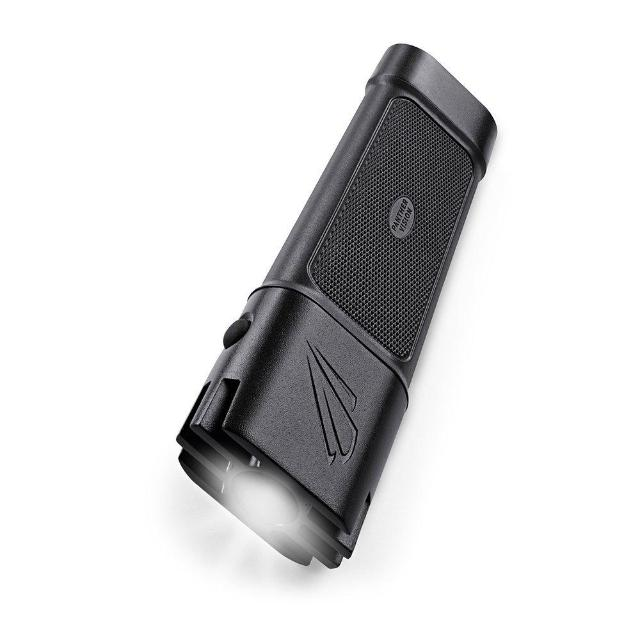Flashlight: (172, 39, 506, 582)
